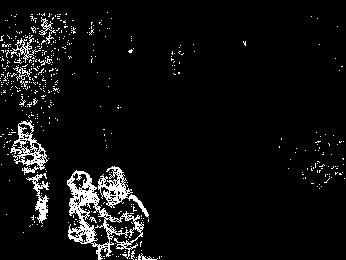person: (104, 167, 160, 259), (11, 119, 55, 227), (64, 168, 102, 259)
